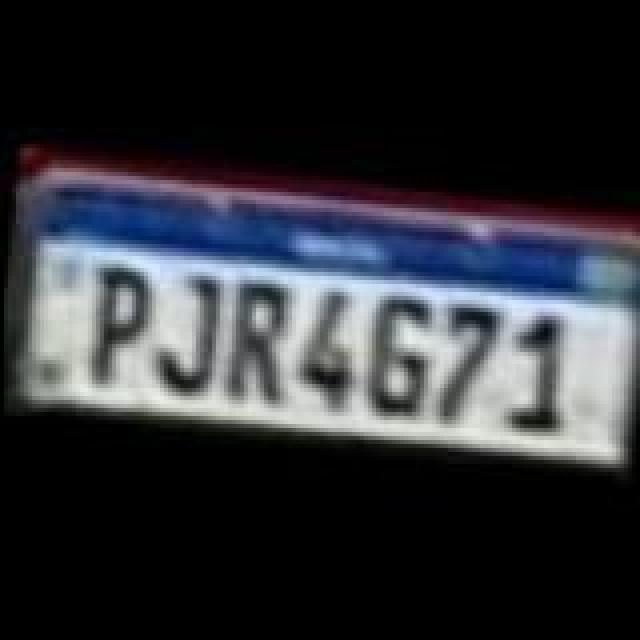1: (492, 304, 572, 440)
4: (288, 280, 368, 420)
7: (418, 302, 502, 430)
G: (354, 292, 438, 424)
J: (150, 270, 234, 398)
P: (80, 262, 152, 394)
R: (220, 278, 300, 406)
